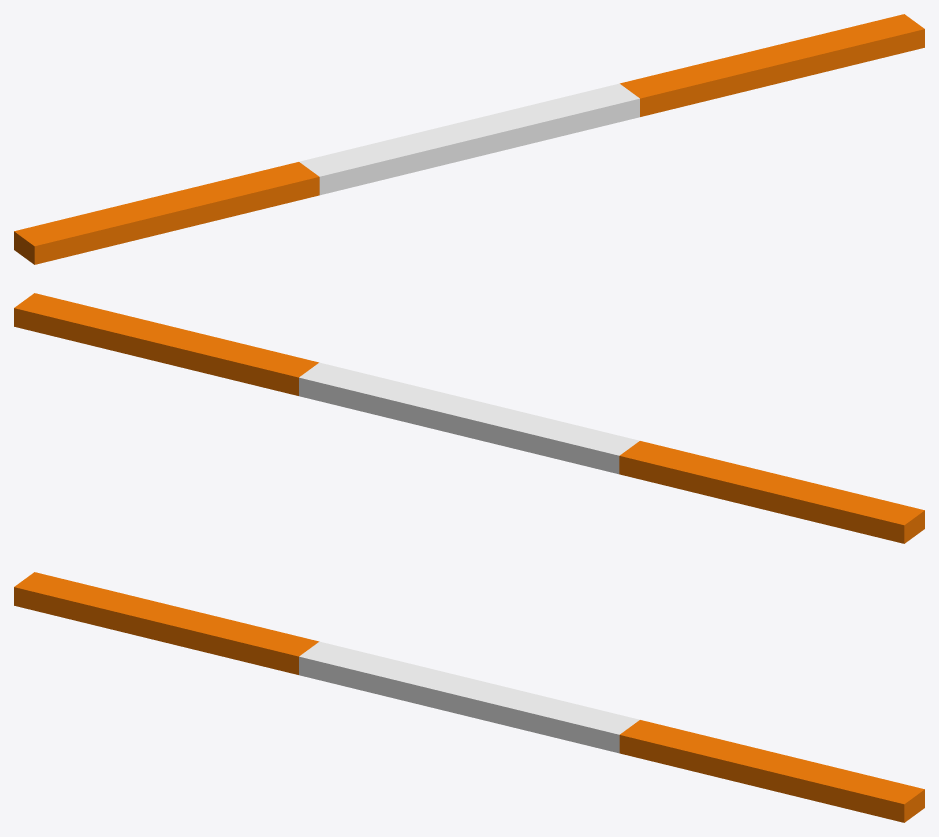
Rendered from railine.fbx.
The picture shows the model from 3 angles, top to bottom: view 1: azimuth 30°, elevation 25°; view 2: azimuth 150°, elevation 25°; view 3: azimuth 330°, elevation 25°; orthographic projection.
Parts seen in each view (by area): view 1: Model; view 2: Model; view 3: Model.
Boxes of the visible parts, left/top/right/bottom form: Model: left=14, top=14, right=924, bottom=264; Model: left=14, top=293, right=924, bottom=543; Model: left=14, top=572, right=924, bottom=822.
Bounding box in the file's own units: 25 × 0.5 × 1.
